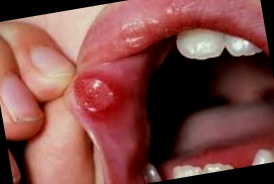Ulcer: (70, 69, 122, 117)
